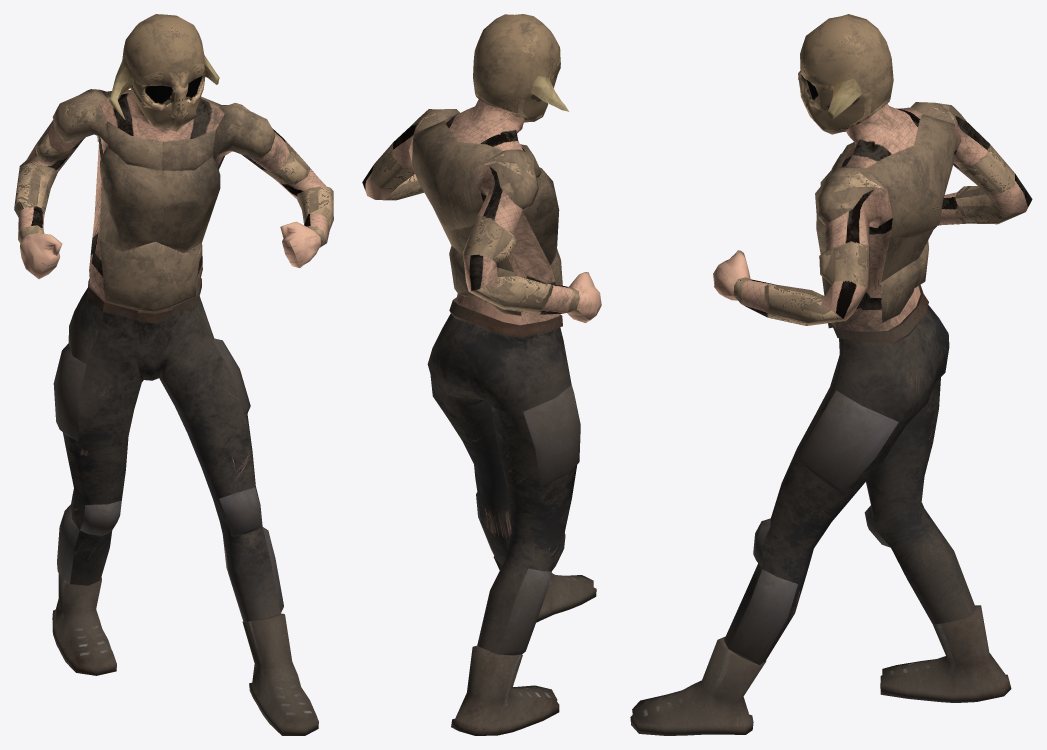
File: Anim_ataque_d2_npc1.0017.obj
The picture shows the model from 3 angles, left to right: view 1: azimuth 30°, elevation 25°; view 2: azimuth 150°, elevation 25°; view 3: azimuth 270°, elevation 25°; orthographic projection. The views are drawn at different scales.
Visible parts, largest first — view 1: NPC2; view 2: NPC2; view 3: NPC2.
Part boxes in pixels (left/top/right/bottom): NPC2: left=14, top=14, right=333, bottom=735; NPC2: left=362, top=14, right=601, bottom=735; NPC2: left=630, top=14, right=1032, bottom=735.
Size of the model in its own units: 3.95 by 9.28 by 4.89.
